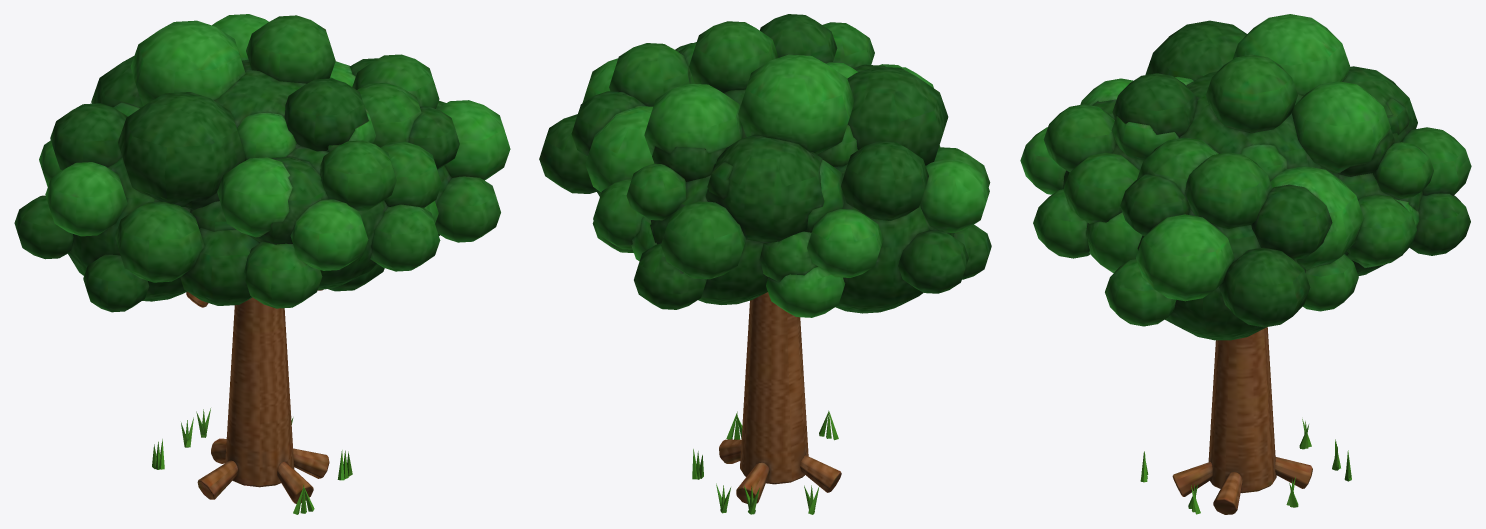
File: jackfruit_tree.glb
3 renders of one model, left to right at view 1: azimuth 30°, elevation 25°; view 2: azimuth 150°, elevation 25°; view 3: azimuth 270°, elevation 25°, orthographic.
Parts seen in each view (by area): view 1: crown, jackfruit_tree; view 2: crown, jackfruit_tree; view 3: crown, jackfruit_tree.
Boxes of the visible parts, left/top/right/bottom form: crown: left=14, top=14, right=510, bottom=312; jackfruit_tree: left=152, top=289, right=352, bottom=514; crown: left=539, top=14, right=991, bottom=317; jackfruit_tree: left=692, top=292, right=841, bottom=514; crown: left=1020, top=14, right=1471, bottom=340; jackfruit_tree: left=1140, top=327, right=1351, bottom=514.
Size of the model in its own units: 1.45 by 1.44 by 1.31.
Materials: 1 (1 with a texture image).
